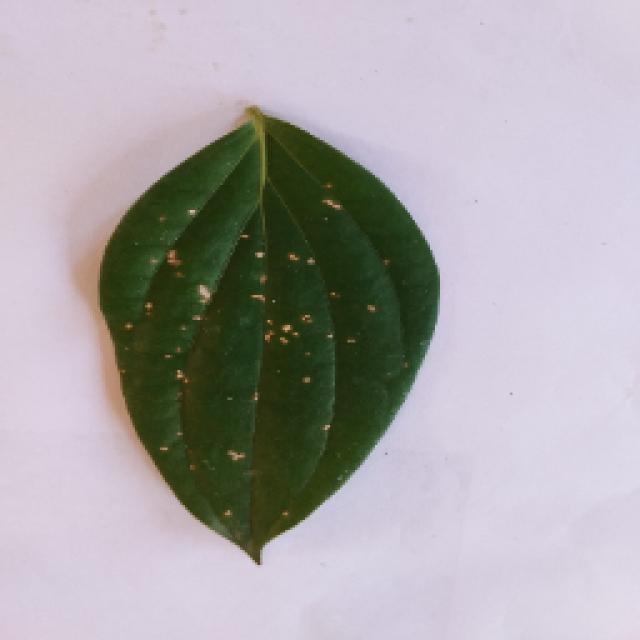pollu-disease: (77, 95, 455, 557)
